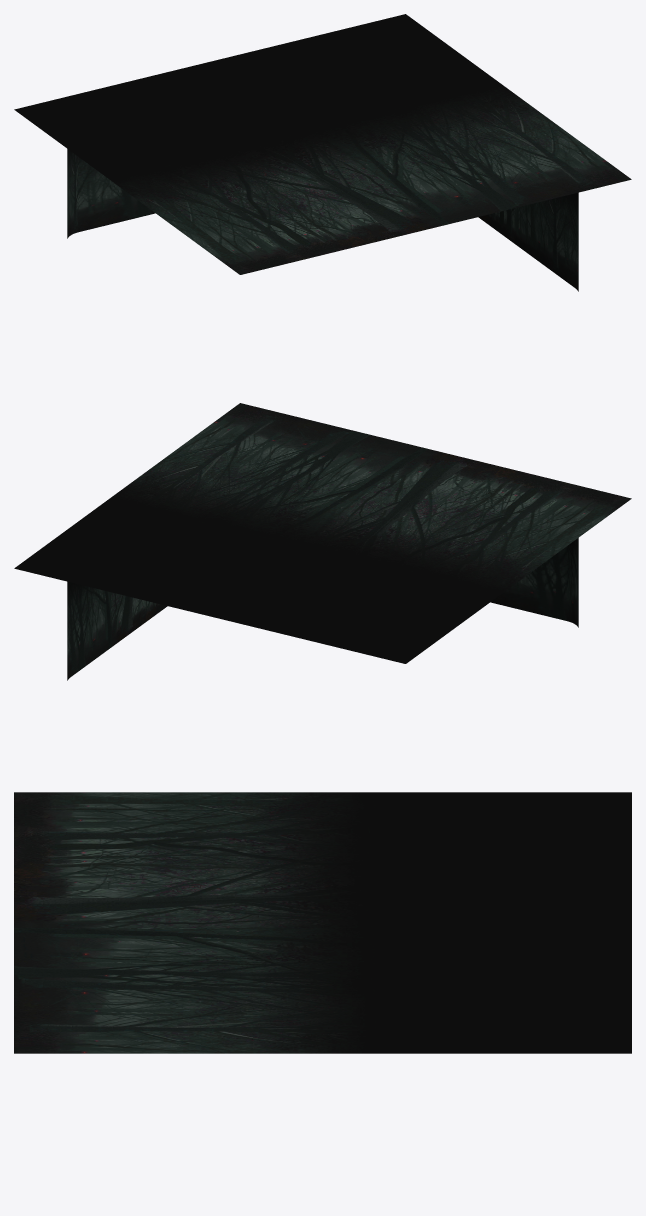
File: Dome.glb
The picture shows the model from 3 angles, top to bottom: view 1: azimuth 30°, elevation 25°; view 2: azimuth 150°, elevation 25°; view 3: azimuth 270°, elevation 25°; orthographic projection. The views are drawn at different scales.
Visible parts, largest first — view 1: Tapon, Domo; view 2: Tapon, Domo; view 3: Tapon.
Boxes of the visible parts, left/top/right/bottom form: Tapon: left=14, top=14, right=631, bottom=274; Domo: left=67, top=149, right=578, bottom=291; Tapon: left=14, top=403, right=631, bottom=663; Domo: left=67, top=538, right=578, bottom=680; Tapon: left=14, top=792, right=631, bottom=1053.
Size of what is drawn, in the model's own units: 64 by 19.09 by 64.
2 materials, 2 textured.
